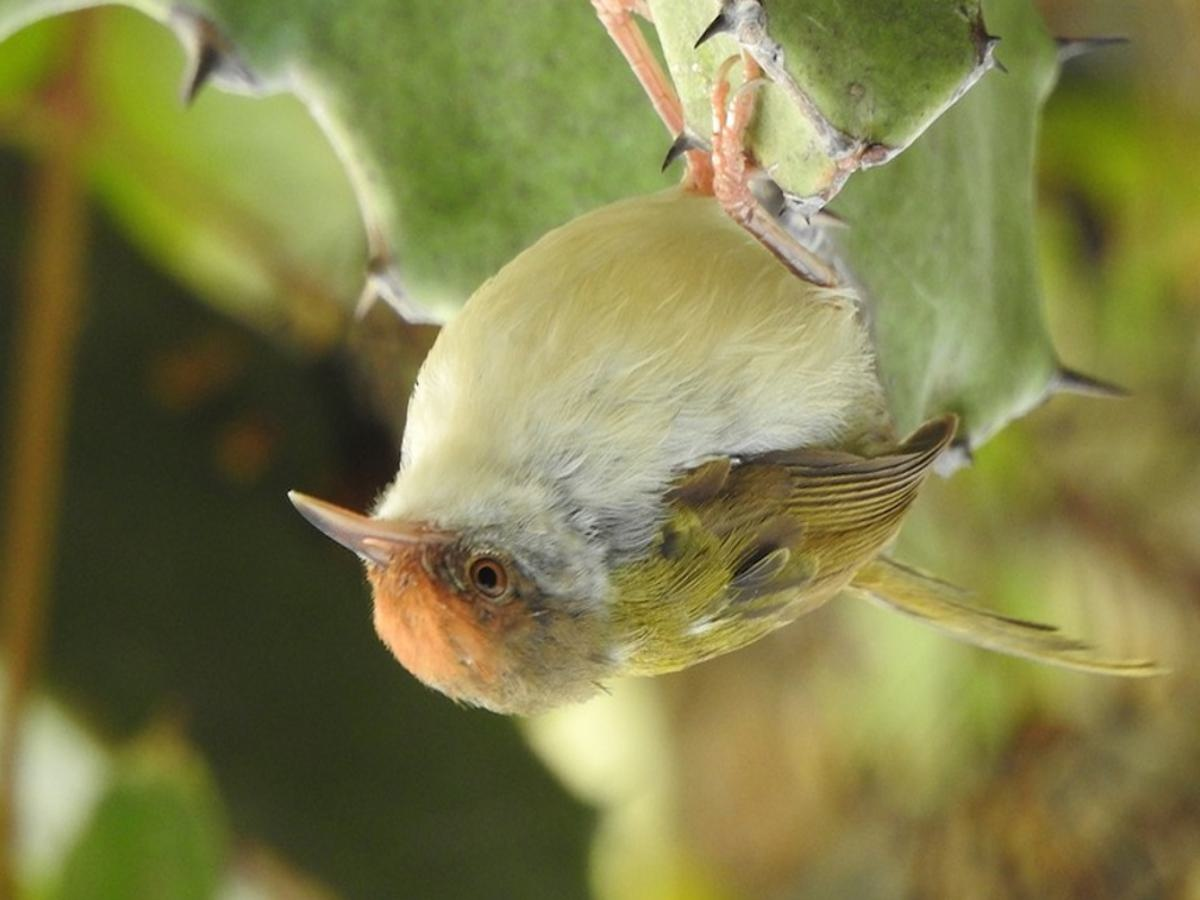tailorbird: (269, 241, 1117, 735)
